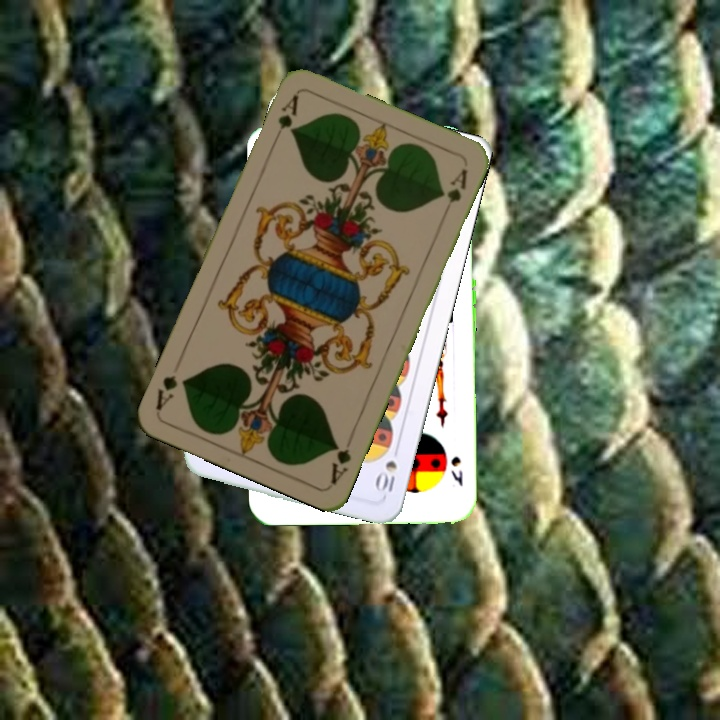GA: (269, 90, 302, 146), (326, 430, 357, 487)
S10: (372, 440, 402, 497)
SK: (447, 452, 465, 489)
